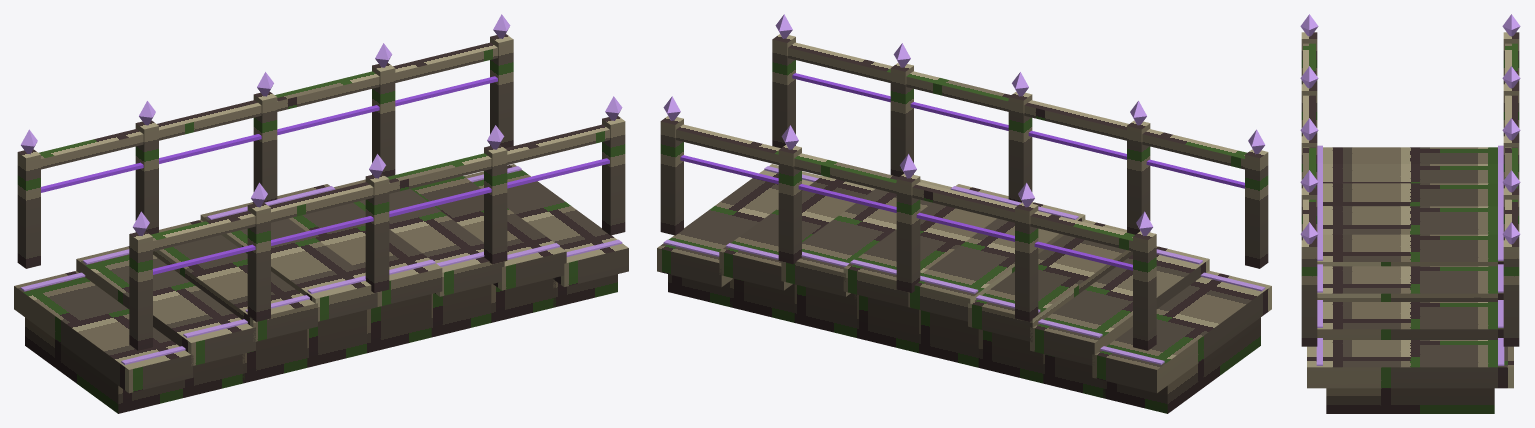
File: light_bridge.glb
3 views of the same model, side by side, from view 1: azimuth 30°, elevation 25°; view 2: azimuth 150°, elevation 25°; view 3: azimuth 270°, elevation 25° (orthographic). The views are drawn at different scales.
Parts seen in each view (by area): view 1: light_bridge; view 2: light_bridge; view 3: light_bridge.
Boxes of the visible parts, x1,y1,x2,y2 form: light_bridge: (14,14,628,413); light_bridge: (657,14,1271,413); light_bridge: (1300,14,1520,413).
Bounding box in the file's own units: 4.02 × 1.59 × 1.7.
Materials: 2 (1 with a texture image).
